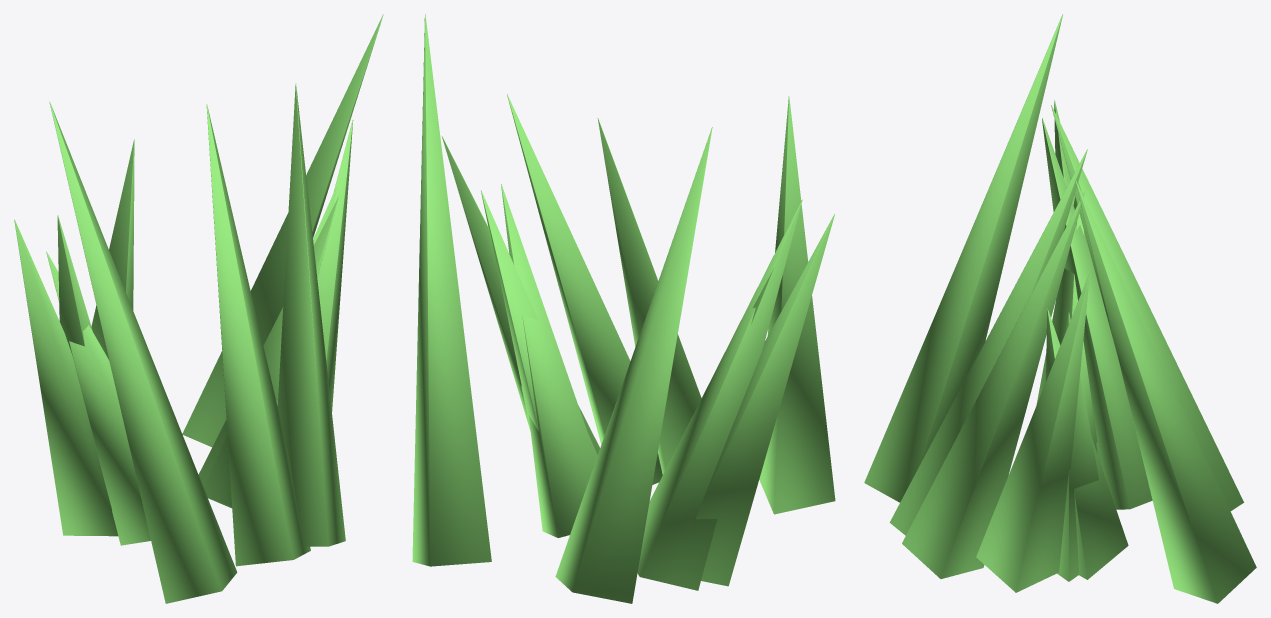
Rendered from grass_tuft.fbx.
3 views of the same model, side by side, from view 1: azimuth 30°, elevation 25°; view 2: azimuth 150°, elevation 25°; view 3: azimuth 270°, elevation 25° (orthographic). The views are drawn at different scales.
Visible parts, largest first — view 1: Blade_grass_tuft; view 2: Blade_grass_tuft; view 3: Blade_grass_tuft.
Part boxes in pixels (x1,y1,x2,y2): Blade_grass_tuft: (14,14,383,603); Blade_grass_tuft: (412,14,835,603); Blade_grass_tuft: (864,14,1256,603).
Bounding box in the file's own units: 0.7115 × 0.8231 × 0.6383.
